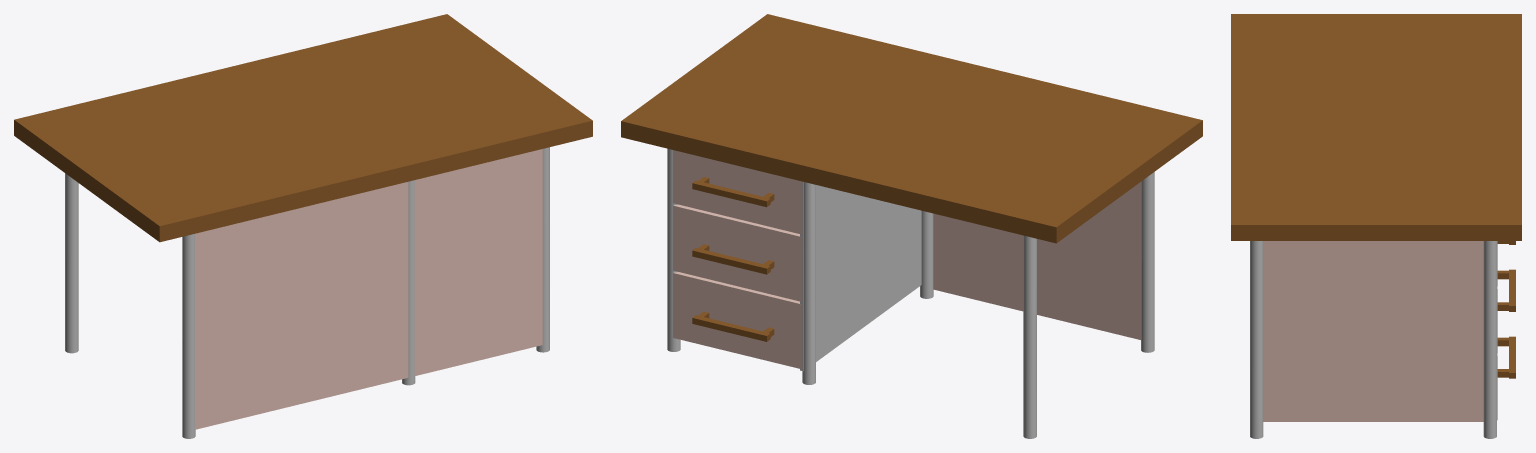
The model's file is Desk.gltf.
The picture shows the model from 3 angles, left to right: view 1: azimuth 30°, elevation 25°; view 2: azimuth 150°, elevation 25°; view 3: azimuth 270°, elevation 25°; orthographic projection.
Visible parts, largest first — view 1: node-0; view 2: node-0; view 3: node-0.
Part boxes in pixels (x1,y1,x2,y2): node-0: (14, 14, 592, 438); node-0: (621, 14, 1202, 438); node-0: (1231, 14, 1521, 438).
Bounding box in the file's own units: 686929 × 347660 × 400027.
